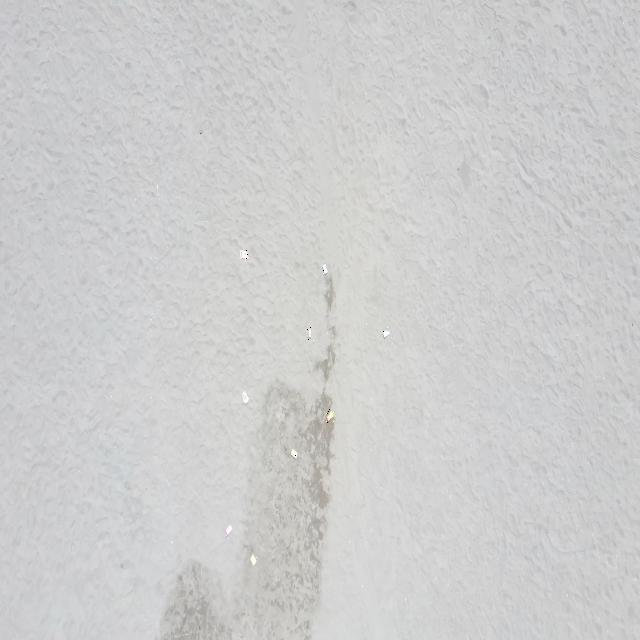retort-pouch: (238, 248, 250, 262), (241, 389, 250, 405), (325, 409, 334, 424), (226, 523, 233, 539), (307, 326, 314, 341), (383, 326, 390, 341), (290, 449, 298, 462), (250, 554, 257, 568), (322, 262, 328, 278)
